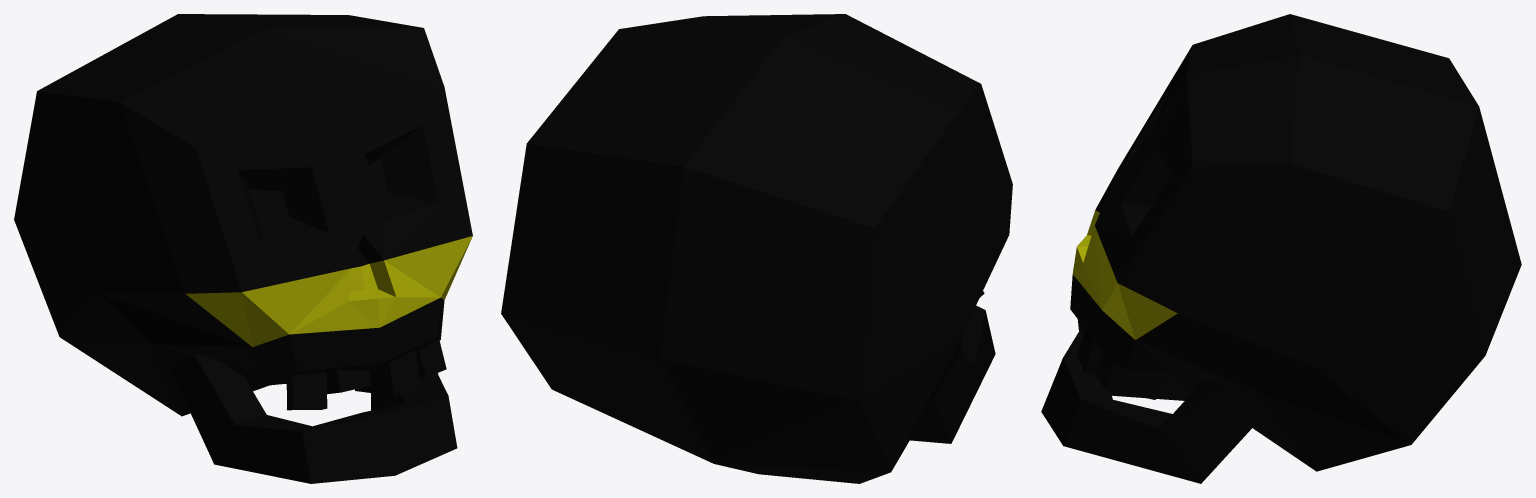
Rendered from SM_Prop_Skull_01.glb.
3 views of the same model, side by side, from view 1: azimuth 30°, elevation 25°; view 2: azimuth 150°, elevation 25°; view 3: azimuth 270°, elevation 25° (orthographic). The views are drawn at different scales.
Visible parts, largest first — view 1: SM_Prop_Skull_01; view 2: SM_Prop_Skull_01; view 3: SM_Prop_Skull_01.
Boxes of the visible parts, <box> form: SM_Prop_Skull_01: <box>14,14,472,483</box>; SM_Prop_Skull_01: <box>501,14,1012,483</box>; SM_Prop_Skull_01: <box>1041,14,1521,483</box>.
Size of the model in its own units: 0.2331 by 0.2562 by 0.2943.
